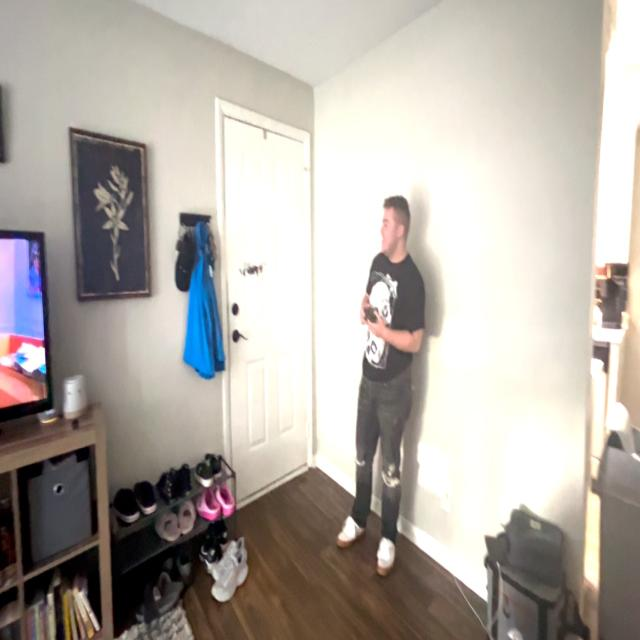drone: (231, 247, 271, 284)
